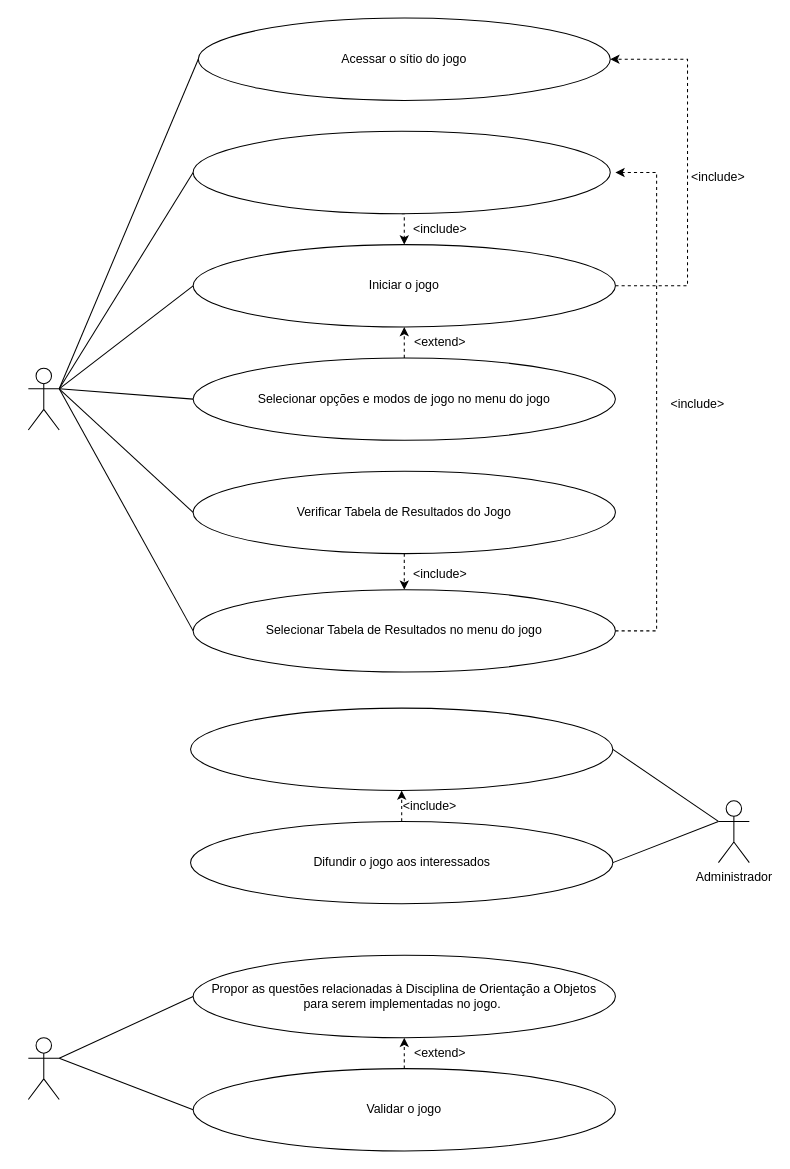
Some shapes in this 790 by 1169 pixel diagram are drawn without their labels. Here are the shapes that lost their labels. From the top down, the box of each, then its label:
(192, 130, 610, 214): Jogar
(27, 367, 59, 430): Jogador
(190, 707, 613, 791): Hospedar o jogo em um servidor na Internet
(27, 1037, 59, 1100): Professor
